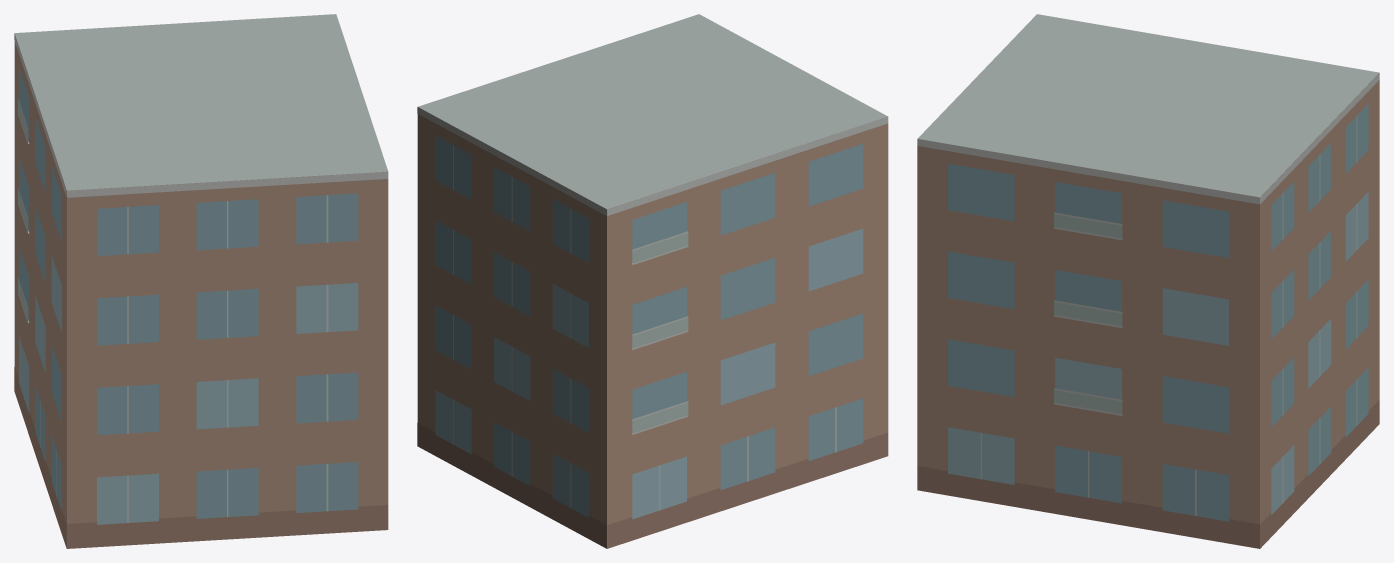
Rendered from residential-f23fd623-a09b-4a51-a224-9a8125307f66.glb.
3 renders of one model, left to right at view 1: azimuth 30°, elevation 25°; view 2: azimuth 150°, elevation 25°; view 3: azimuth 270°, elevation 25°, orthographic. The views are drawn at different scales.
Parts seen in each view (by area): view 1: residential-f23fd623-a09b-4a51-a224-9a8125307f66.tmp; view 2: residential-f23fd623-a09b-4a51-a224-9a8125307f66.tmp; view 3: residential-f23fd623-a09b-4a51-a224-9a8125307f66.tmp.
Boxes of the visible parts, x1,y1,x2,y2 form: residential-f23fd623-a09b-4a51-a224-9a8125307f66.tmp: (14, 14, 388, 548); residential-f23fd623-a09b-4a51-a224-9a8125307f66.tmp: (417, 14, 888, 548); residential-f23fd623-a09b-4a51-a224-9a8125307f66.tmp: (917, 14, 1379, 548).
Size of the model in its own units: 13.66 by 12.2 by 14.55.
